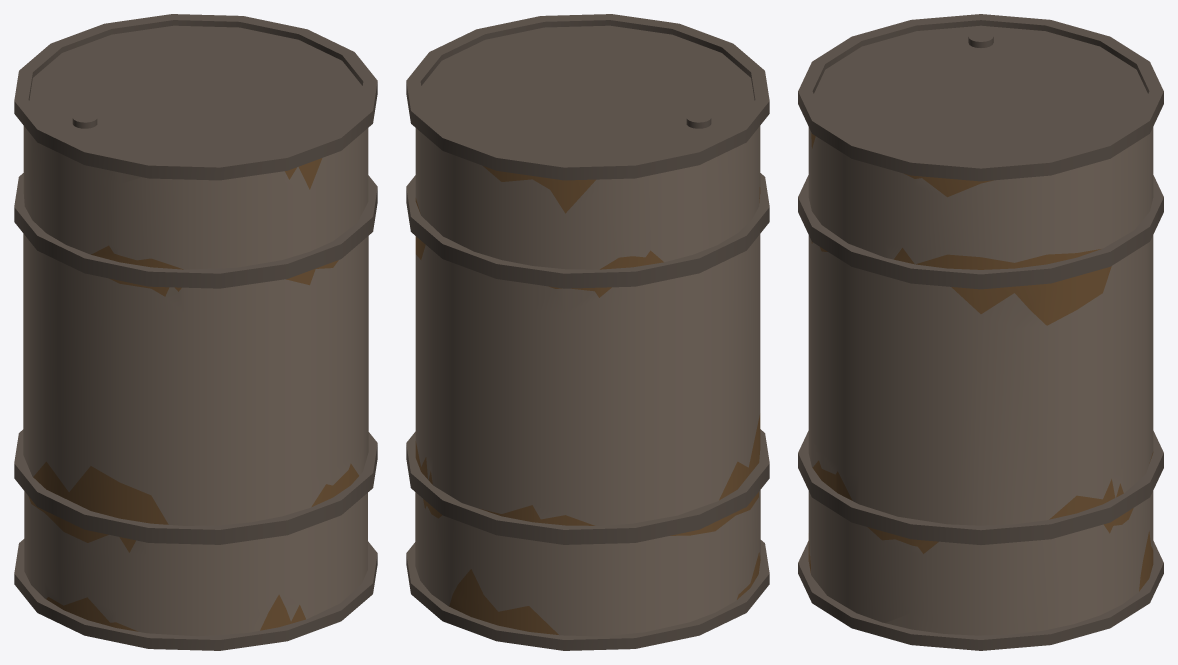
Rendered from SM_Prop_MetalBarrel_01.obj.
The picture shows the model from 3 angles, left to right: view 1: azimuth 30°, elevation 25°; view 2: azimuth 150°, elevation 25°; view 3: azimuth 270°, elevation 25°; orthographic projection.
Parts seen in each view (by area): view 1: SM_Prop_MetalBarrel_01_Mat_SwatchOverlay_Farm_01_Inst; view 2: SM_Prop_MetalBarrel_01_Mat_SwatchOverlay_Farm_01_Inst; view 3: SM_Prop_MetalBarrel_01_Mat_SwatchOverlay_Farm_01_Inst.
Part boxes in pixels (x1,y1,x2,y2): SM_Prop_MetalBarrel_01_Mat_SwatchOverlay_Farm_01_Inst: [14, 14, 377, 650]; SM_Prop_MetalBarrel_01_Mat_SwatchOverlay_Farm_01_Inst: [406, 14, 769, 650]; SM_Prop_MetalBarrel_01_Mat_SwatchOverlay_Farm_01_Inst: [798, 14, 1163, 650].
Size of the model in its own units: 0.6096 by 0.8875 by 0.6096.
1 material, 1 textured.
